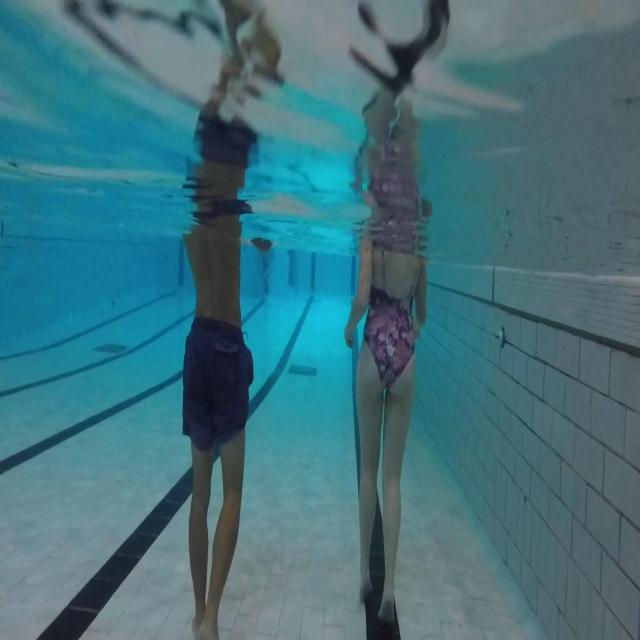human: (180, 104, 274, 638), (343, 90, 433, 625)
